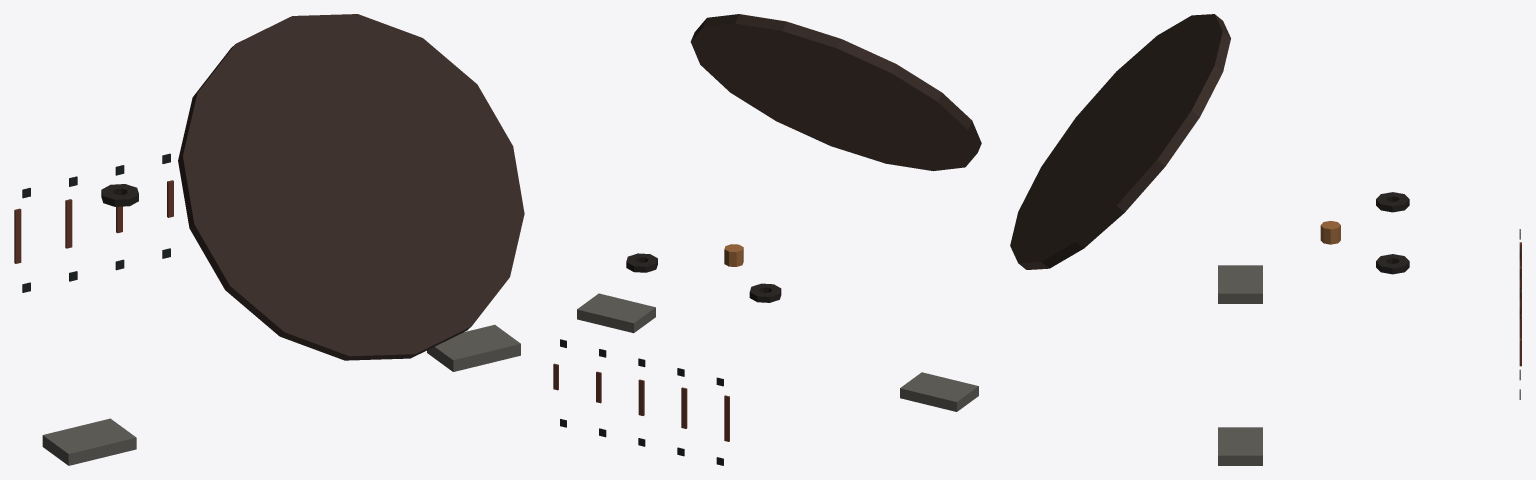
The model's file is cannon_detail2.glb.
3 renders of one model, left to right at view 1: azimuth 30°, elevation 25°; view 2: azimuth 150°, elevation 25°; view 3: azimuth 270°, elevation 25°, orthographic. The views are drawn at different scales.
Parts seen in each view (by area): view 1: cannon_detail2.001; view 2: cannon_detail2.001; view 3: cannon_detail2.001.
Boxes of the visible parts, x1,y1,x2,y2 form: cannon_detail2.001: (14, 14, 524, 465); cannon_detail2.001: (553, 14, 981, 465); cannon_detail2.001: (1010, 14, 1521, 465).
Size of the model in its own units: 8 by 6.64 by 9.08.
